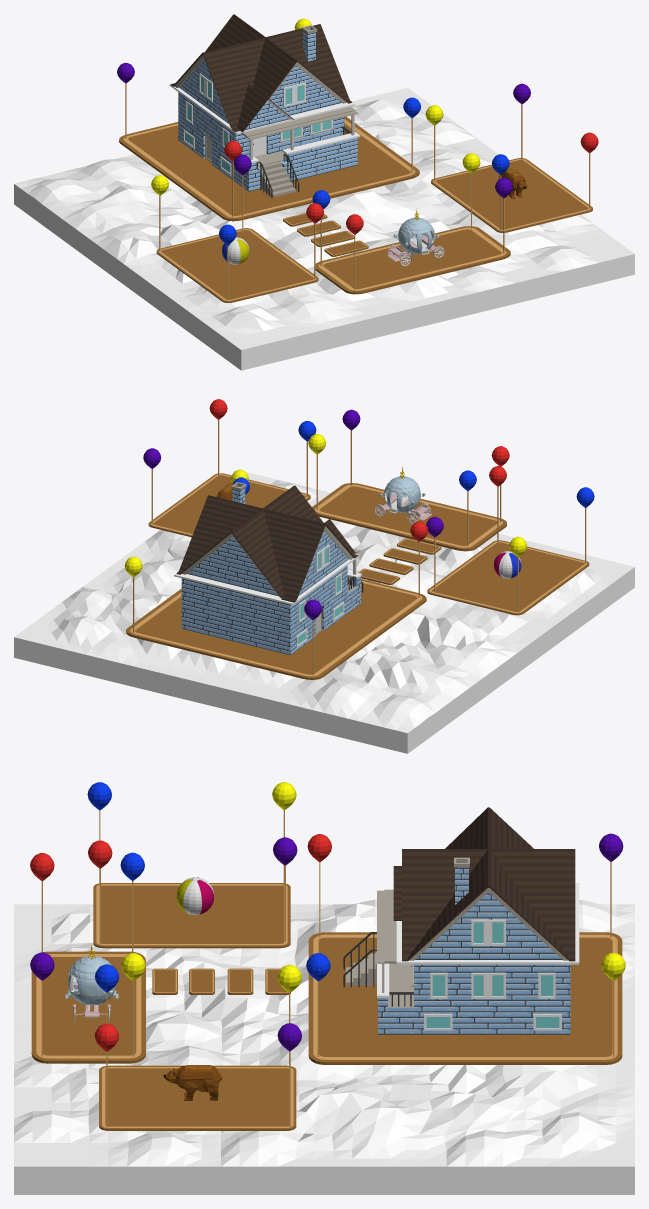
The picture shows the model from 3 angles, top to bottom: view 1: azimuth 30°, elevation 25°; view 2: azimuth 150°, elevation 25°; view 3: azimuth 270°, elevation 25°; orthographic projection. The views are drawn at different scales.
Parts seen in each view (by area): view 1: Cube.013, Cube.547, VEHICLES_FANTASY_CARRIAGE, OBJRANDOM_BEACHBALL; view 2: Cube.013, Cube.547, VEHICLES_FANTASY_CARRIAGE, OBJRANDOM_BEACHBALL; view 3: Cube.013, Cube.547, VEHICLES_FANTASY_CARRIAGE, ANIMAL_OSO, OBJRANDOM_BEACHBALL.
Boxes of the visible parts, x1,y1,x2,y2 form: Cube.013: (14, 18, 634, 370); Cube.547: (169, 14, 360, 198); VEHICLES_FANTASY_CARRIAGE: (387, 208, 444, 266); OBJRANDOM_BEACHBALL: (222, 237, 249, 264); Cube.013: (14, 399, 634, 753); Cube.547: (174, 482, 363, 655); VEHICLES_FANTASY_CARRIAGE: (374, 467, 431, 524); OBJRANDOM_BEACHBALL: (494, 551, 521, 578); Cube.013: (14, 782, 634, 1194); Cube.547: (343, 807, 579, 1034); VEHICLES_FANTASY_CARRIAGE: (65, 945, 118, 1021); ANIMAL_OSO: (163, 1065, 222, 1100); OBJRANDOM_BEACHBALL: (176, 877, 213, 915).
Bounding box in the file's own units: 4000 × 1691 × 4000.
29 materials, 2 textured.
